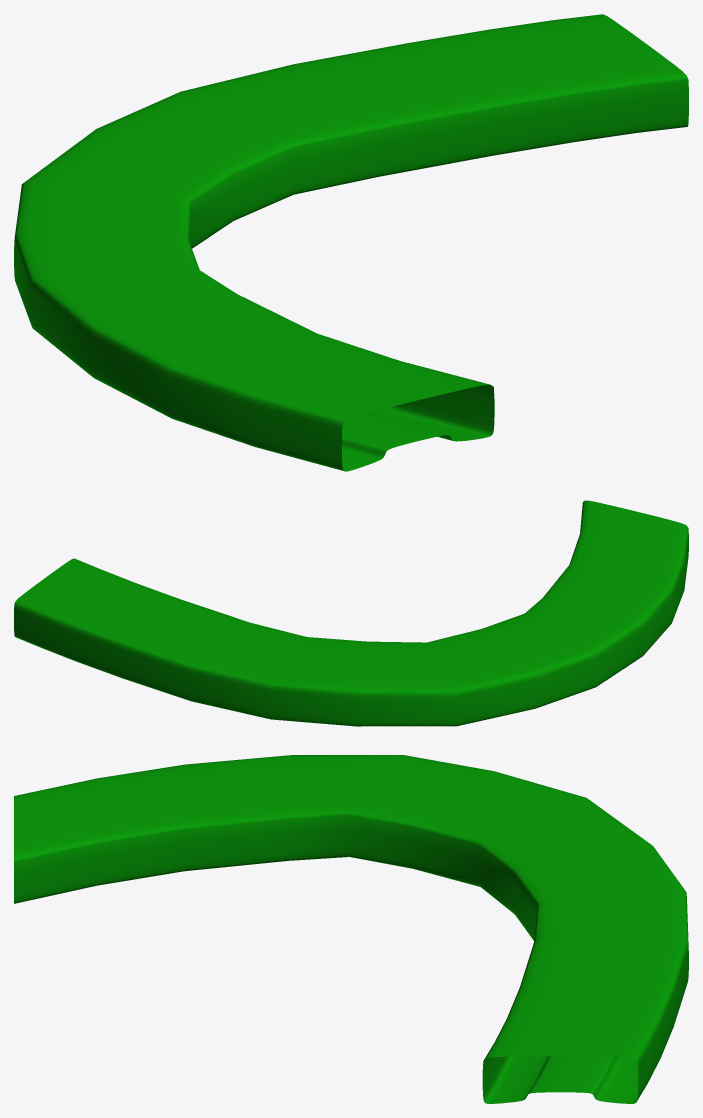
Rendered from ModTrackCurve.fbx.
The picture shows the model from 3 angles, top to bottom: view 1: azimuth 30°, elevation 25°; view 2: azimuth 150°, elevation 25°; view 3: azimuth 270°, elevation 25°; orthographic projection. The views are drawn at different scales.
Parts seen in each view (by area): view 1: ModRigCurve; view 2: ModRigCurve; view 3: ModRigCurve.
Part boxes in pixels (bbox=[...]): ModRigCurve: bbox=[14, 14, 688, 471]; ModRigCurve: bbox=[14, 500, 688, 726]; ModRigCurve: bbox=[14, 755, 688, 1103].
Size of the model in its own units: 105 by 8.43 by 98.81.
